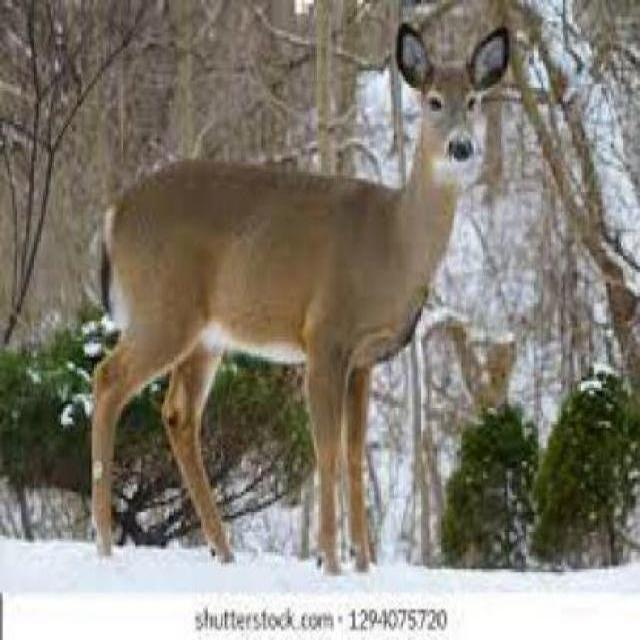deer: (66, 19, 517, 576)
